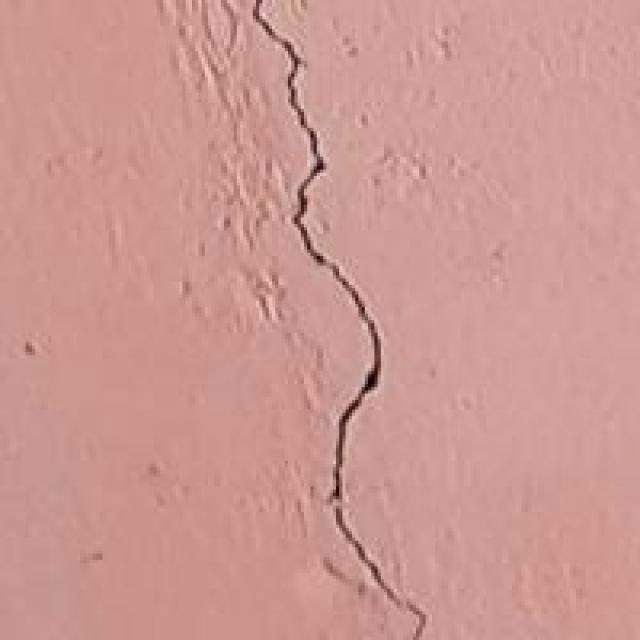crack: (208, 0, 456, 640)
